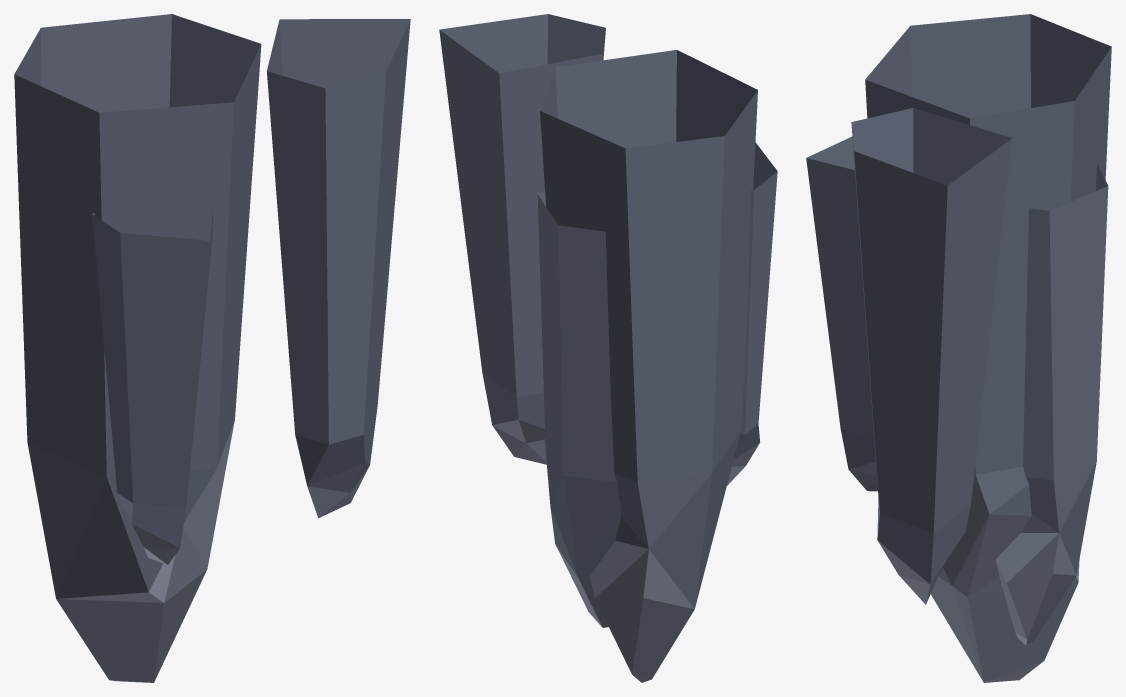
The model's file is Flora_Rocks_01.fbx.
The picture shows the model from 3 angles, left to right: view 1: azimuth 30°, elevation 25°; view 2: azimuth 150°, elevation 25°; view 3: azimuth 270°, elevation 25°; orthographic projection. The views are drawn at different scales.
Visible parts, largest first — view 1: Color_01 (×2); view 2: Color_01 (×2); view 3: Color_01 (×2).
Part boxes in pixels (bbox=[...]): Color_01 (×2): bbox=[14, 14, 410, 682]; Color_01 (×2): bbox=[439, 14, 777, 682]; Color_01 (×2): bbox=[806, 14, 1111, 682].
Size of the model in its own units: 21.99 by 37.14 by 16.6.
